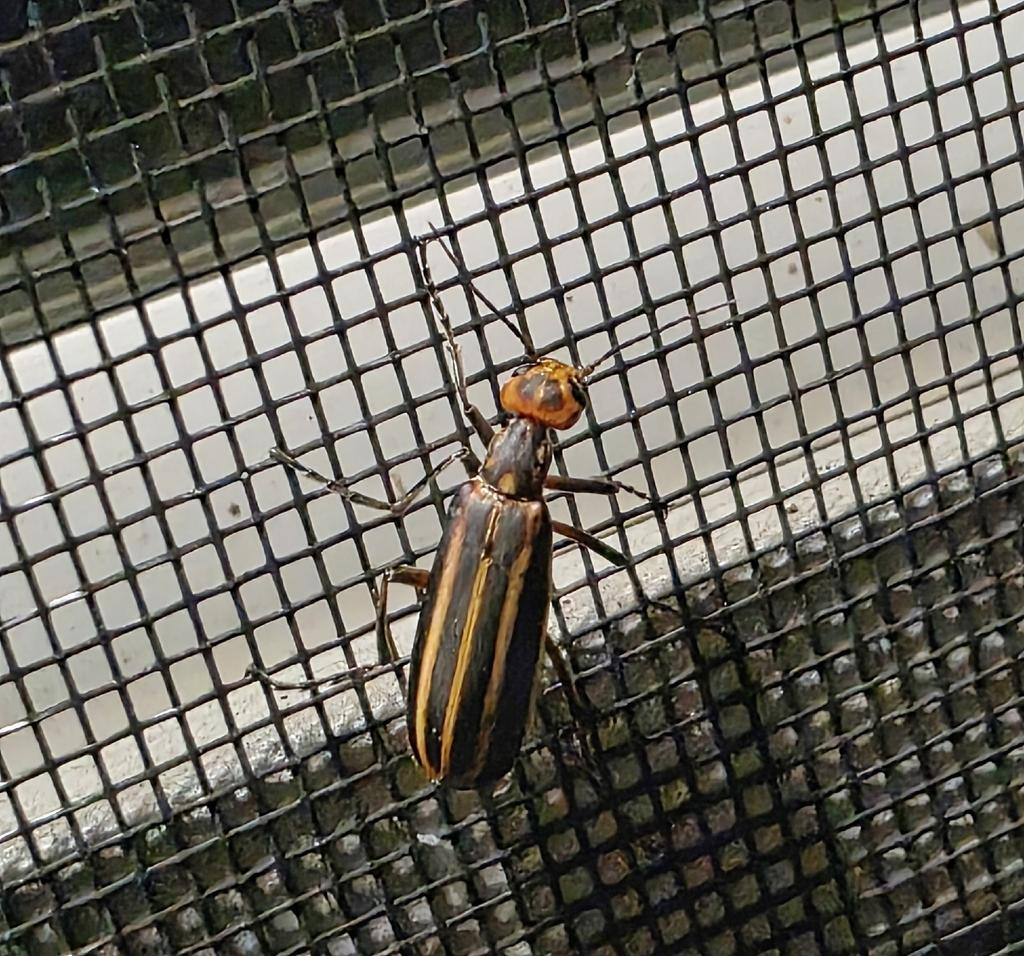blister_beetle: (226, 193, 795, 862)
